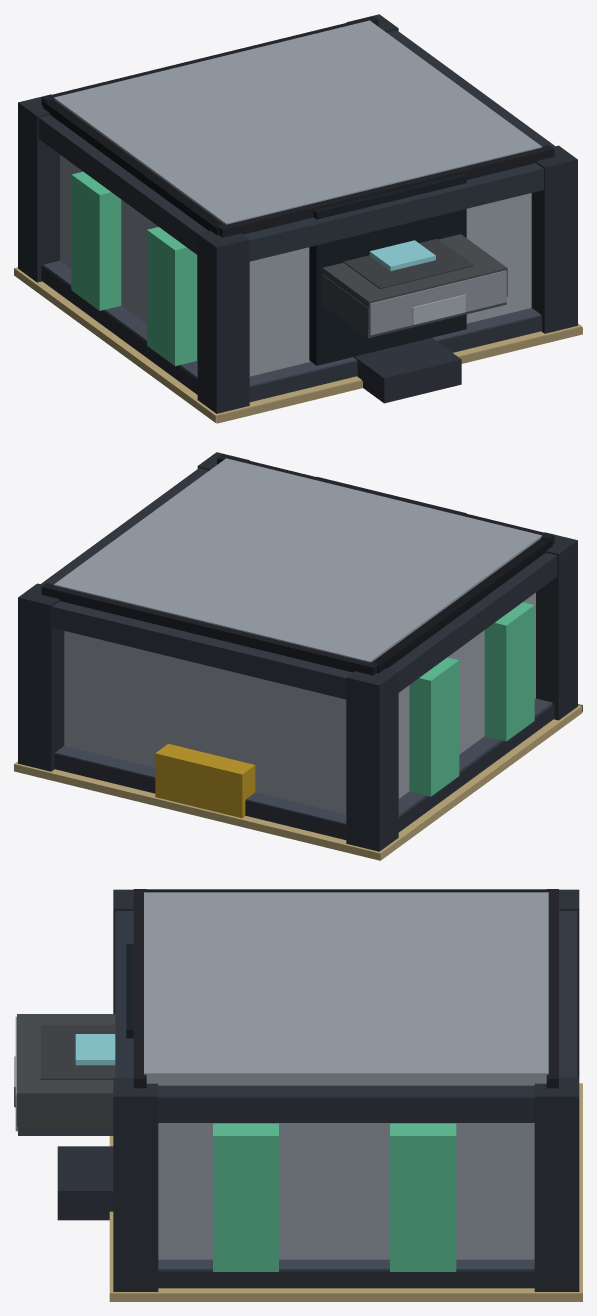
Rendered from UfoJarSil.fbx.
3 renders of one model, top to bottom at view 1: azimuth 30°, elevation 25°; view 2: azimuth 150°, elevation 25°; view 3: azimuth 270°, elevation 25°, orthographic. The views are drawn at different scales.
Parts seen in each view (by area): view 1: UF_S_All; view 2: UF_S_All; view 3: UF_S_All.
Part boxes in pixels (bbox=[...]): UF_S_All: bbox=[14, 14, 582, 423]; UF_S_All: bbox=[14, 452, 582, 860]; UF_S_All: bbox=[14, 889, 582, 1301].
Bounding box in the file's own units: 42.04 × 20 × 48.15.
